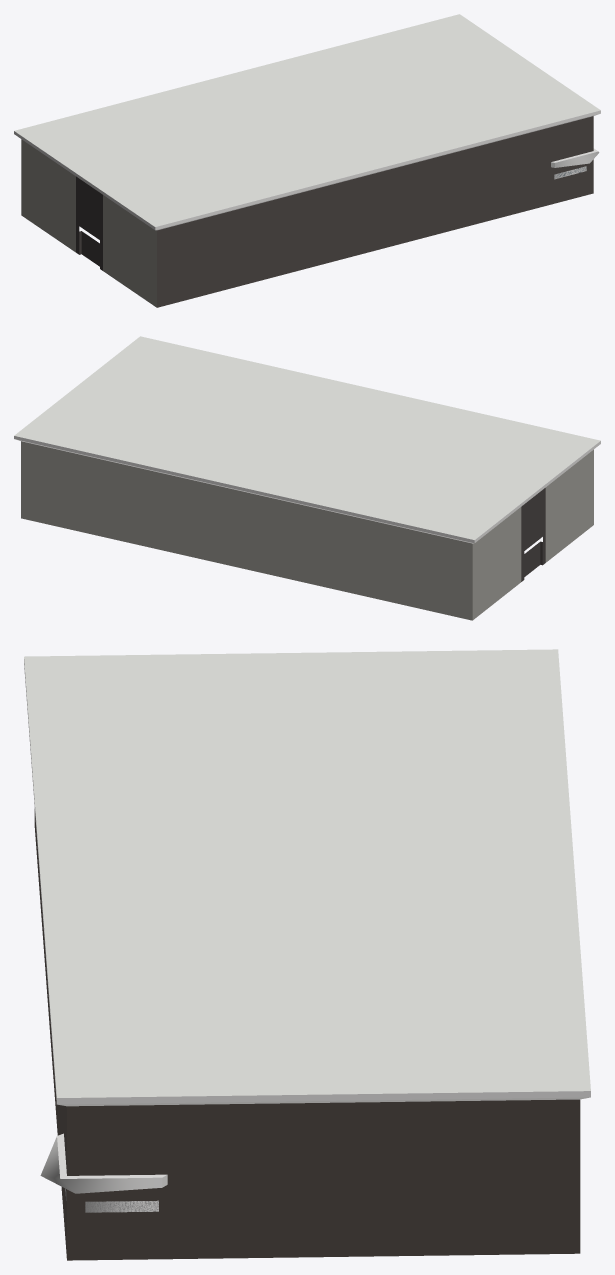
The model's file is fsg-bank.glb.
3 renders of one model, top to bottom at view 1: azimuth 30°, elevation 25°; view 2: azimuth 150°, elevation 25°; view 3: azimuth 270°, elevation 25°, orthographic. The views are drawn at different scales.
Visible parts, largest first — view 1: LOD0; view 2: LOD0; view 3: LOD0.
Part boxes in pixels (<box>): LOD0: <box>14,14,600,307</box>; LOD0: <box>14,336,600,620</box>; LOD0: <box>24,649,590,1260</box>.
Size of what is drawn, in the model's own units: 62.91 by 10.84 by 33.37.
Materials: 2 (2 with a texture image).
